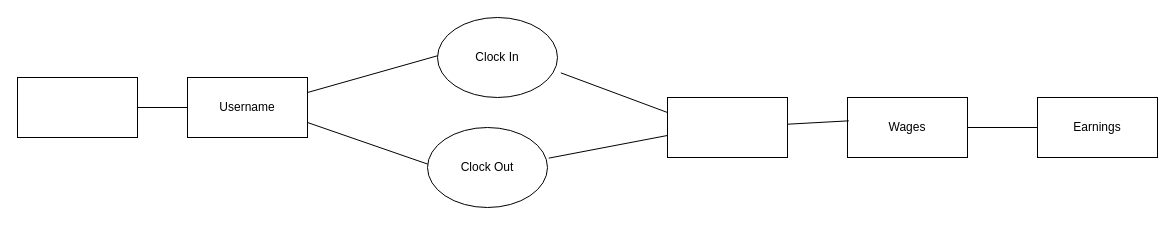
The diagram is 1175 pixels wide and 225 high, and some of its shapes have lost their labels. Each missing label, with the centre of its shape:
"Hours" goes at point 727,127.
"Usser" goes at point 77,107.
